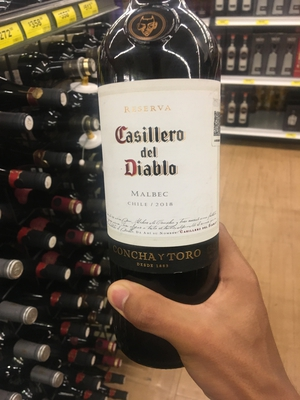casillero del diablo malbec: (95, 4, 243, 343)
